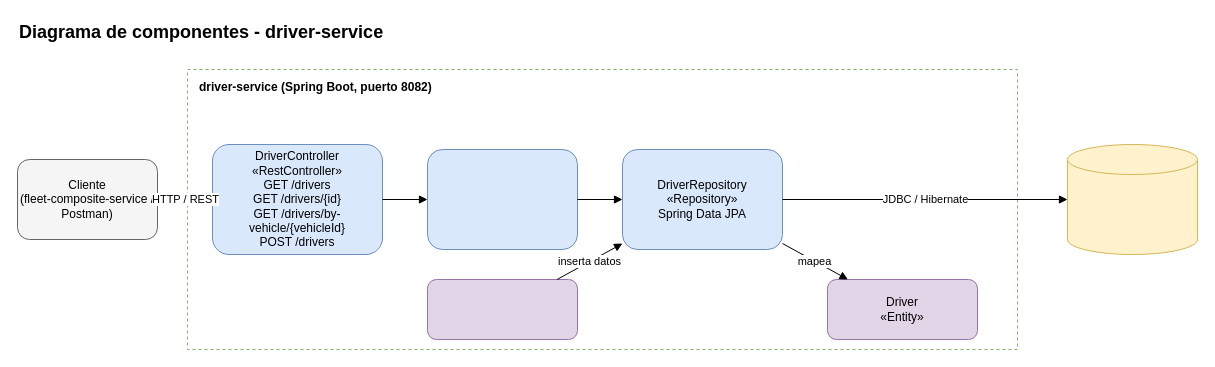
Image size: 1215x367. Some labels were removed from this diagram. Each missing label, with the centre of its shape:
"DataSeeder «Configuration» datos de prueba" belongs at [502,309].
"DriverService «Service» lógica de negocio" belongs at [502,199].
"PostgreSQL driver_db" belongs at [1132,199].
